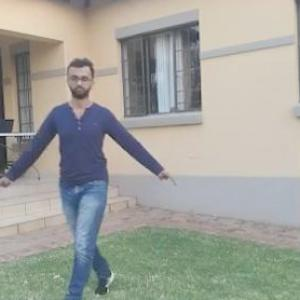land: (29, 75, 166, 275)
